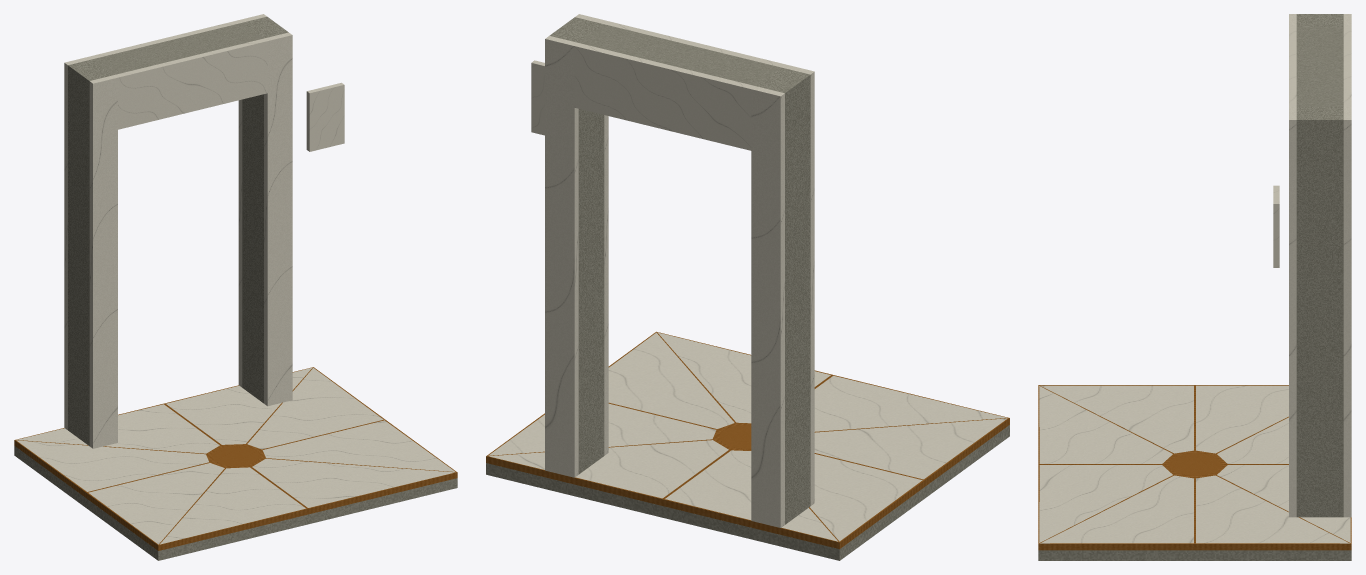
3 views of the same model, side by side, from view 1: azimuth 30°, elevation 25°; view 2: azimuth 150°, elevation 25°; view 3: azimuth 270°, elevation 25° (orthographic). The views are drawn at different scales.
Parts seen in each view (by area): view 1: Marble jamb facing, Marble jamb facing.002, Stone jamb, Marble head facing, Stone jamb.001, Recessed continuous bronze inlay bed, Replaceable flush radial marble floor sector.002, Replaceable flush radial marble floor sector.006, Replaceable flush radial marble floor sector.001, Replaceable flush radial marble floor sector.007, Replaceable flush radial marble floor sector, Replaceable flush radial marble floor sector.003 (+9 smaller); view 2: Marble jamb facing.001, Marble jamb facing.003, Stone jamb, Marble head facing.001, Stone jamb.001, Replaceable flush radial marble floor sector.007, Stone floor substrate, Recessed continuous bronze inlay bed, Replaceable flush radial marble floor sector.002, Replaceable flush radial marble floor sector, Replaceable flush radial marble floor sector.004, Replaceable flush radial marble floor sector.006 (+9 smaller); view 3: Stone jamb.001, Replaceable flush radial marble floor sector.007, Replaceable flush radial marble floor sector.002, Replaceable flush radial marble floor sector.003, Replaceable flush radial marble floor sector.001, Replaceable flush radial marble floor sector, Replaceable flush radial marble floor sector.006, Recessed continuous bronze inlay bed, Door masonry head, Marble jamb facing.003, Stone floor substrate, Marble jamb facing.002 (+7 smaller).
Boxes of the visible parts, bbox=[...] form: Marble jamb facing: bbox=[89, 75, 117, 448]; Marble jamb facing.002: bbox=[264, 32, 292, 406]; Stone jamb: bbox=[68, 59, 113, 445]; Marble head facing: bbox=[115, 38, 267, 129]; Stone jamb.001: bbox=[242, 16, 288, 403]; Recessed continuous bronze inlay bed: bbox=[14, 367, 457, 550]; Replaceable flush radial marble floor sector.002: bbox=[262, 420, 455, 471]; Replaceable flush radial marble floor sector.006: bbox=[16, 440, 208, 491]; Replaceable flush radial marble floor sector.001: bbox=[252, 458, 455, 507]; Replaceable flush radial marble floor sector.007: bbox=[88, 463, 224, 544]; Replaceable flush radial marble floor sector: bbox=[160, 467, 305, 544]; Replaceable flush radial marble floor sector.003: bbox=[247, 368, 383, 449]; Marble jamb facing.001: bbox=[751, 86, 784, 527]; Marble jamb facing.003: bbox=[545, 36, 578, 477]; Stone jamb: bbox=[756, 67, 810, 524]; Marble head facing.001: bbox=[574, 43, 755, 150]; Stone jamb.001: bbox=[549, 17, 604, 474]; Replaceable flush radial marble floor sector.007: bbox=[814, 418, 1007, 479]; Stone floor substrate: bbox=[486, 425, 1009, 560]; Recessed continuous bronze inlay bed: bbox=[486, 331, 1009, 549]; Replaceable flush radial marble floor sector.002: bbox=[608, 332, 734, 428]; Replaceable flush radial marble floor sector: bbox=[814, 375, 1006, 431]; Replaceable flush radial marble floor sector.004: bbox=[489, 440, 728, 498]; Replaceable flush radial marble floor sector.006: bbox=[810, 454, 922, 541]; Stone jamb.001: bbox=[1296, 106, 1343, 517]; Replaceable flush radial marble floor sector.007: bbox=[1040, 385, 1193, 453]; Replaceable flush radial marble floor sector.002: bbox=[1040, 475, 1193, 543]; Replaceable flush radial marble floor sector.003: bbox=[1196, 475, 1349, 543]; Replaceable flush radial marble floor sector.001: bbox=[1039, 465, 1172, 542]; Replaceable flush radial marble floor sector: bbox=[1039, 386, 1172, 463]; Replaceable flush radial marble floor sector.006: bbox=[1196, 385, 1288, 453]; Recessed continuous bronze inlay bed: bbox=[1038, 385, 1351, 550]; Door masonry head: bbox=[1296, 27, 1343, 106]; Marble jamb facing.003: bbox=[1343, 106, 1351, 517]; Stone floor substrate: bbox=[1038, 550, 1351, 560]; Marble jamb facing.002: bbox=[1289, 106, 1296, 517].
Bounding box in the file's own units: 2.4 × 2.92 × 2.
Materials: 3 (3 with a texture image).
